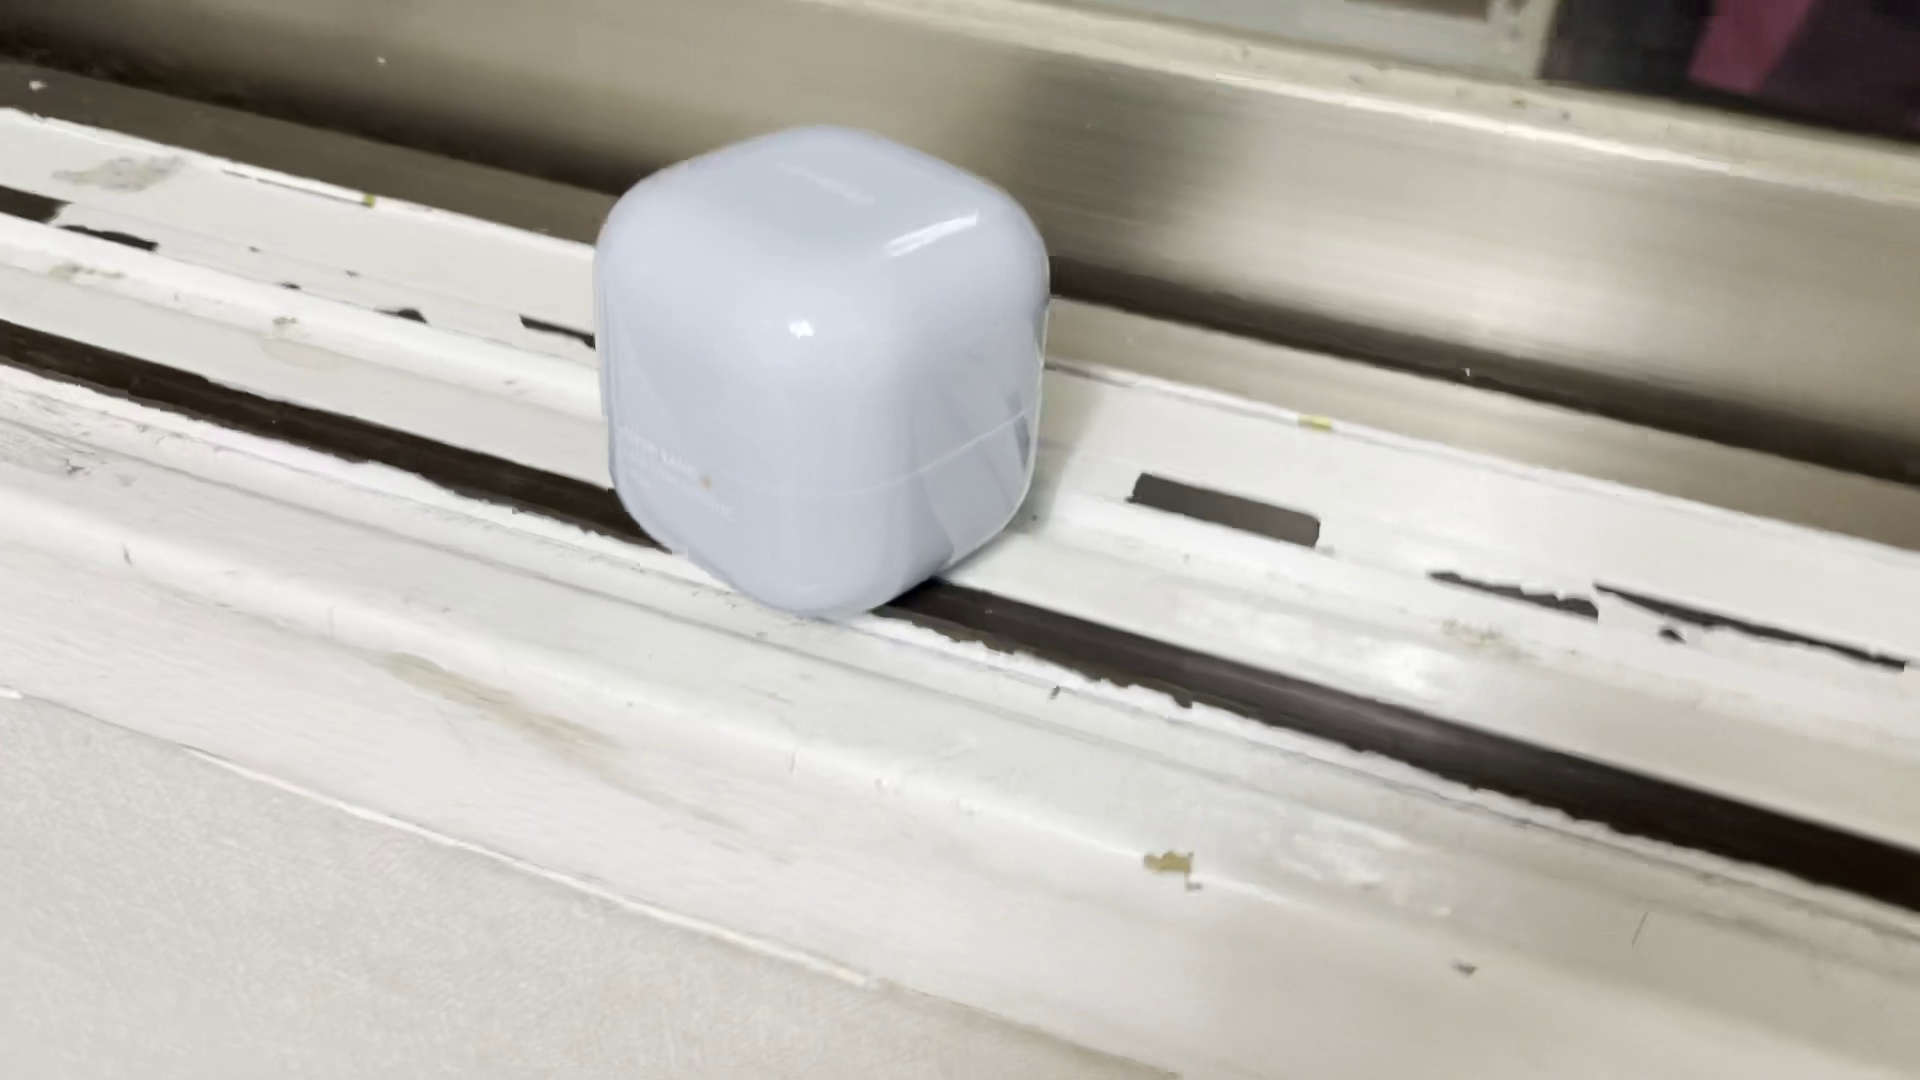cream: (593, 127, 1048, 605)
